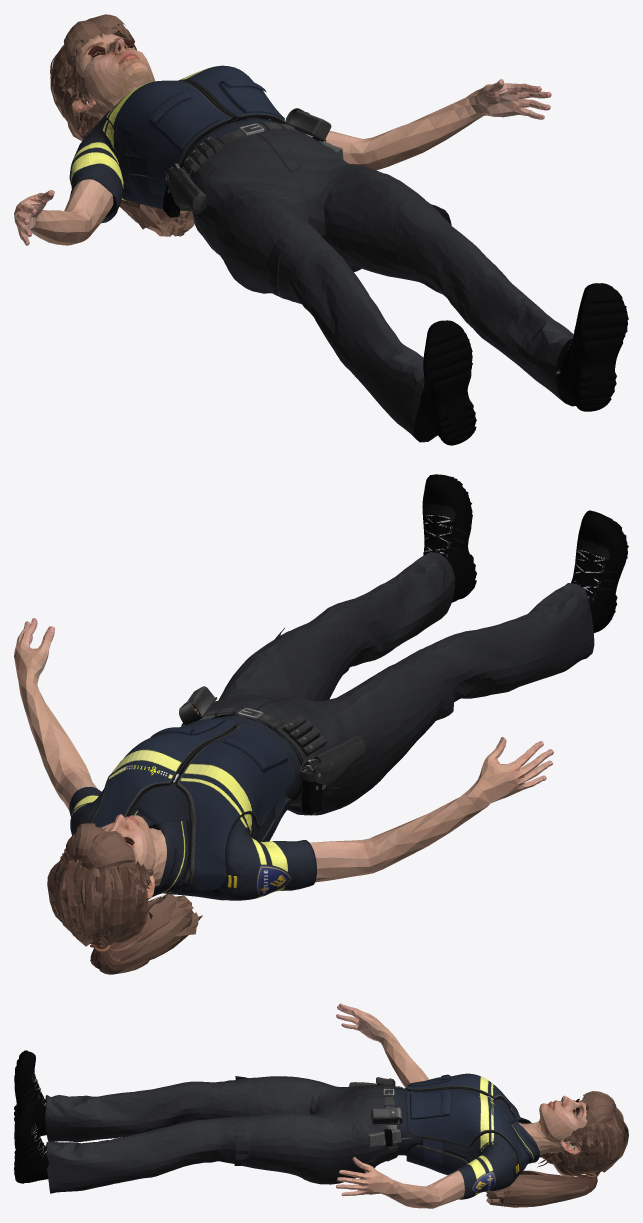
Rendered from douanier2.glb.
3 views of the same model, one above another, from view 1: azimuth 30°, elevation 25°; view 2: azimuth 150°, elevation 25°; view 3: azimuth 270°, elevation 25° (orthographic). The views are drawn at different scales.
Size of the model in its own units: 1.17 by 0.4062 by 1.75.
16 materials, 14 textured.
